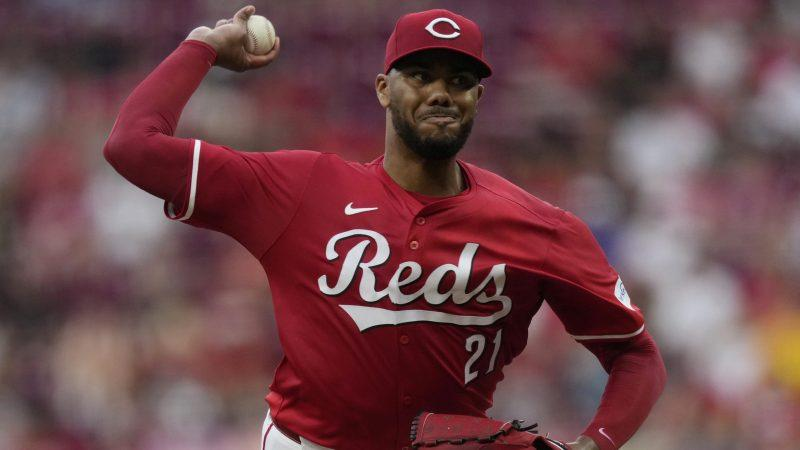baseball: (241, 11, 276, 55)
